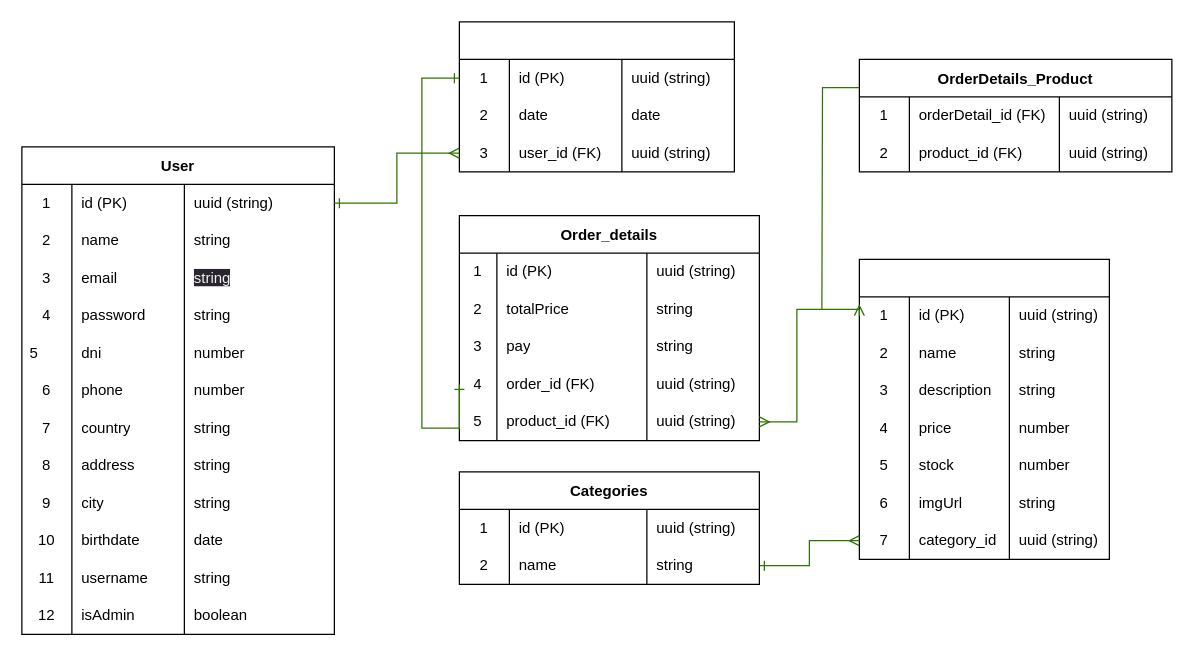
Some shapes in this 1194 by 656 pixel diagram are drawn without their labels. Here are the shapes that lost their labels. From the top down, the box of each, then its label:
(458, 21, 734, 172): Orders
(858, 258, 1109, 559): Product
